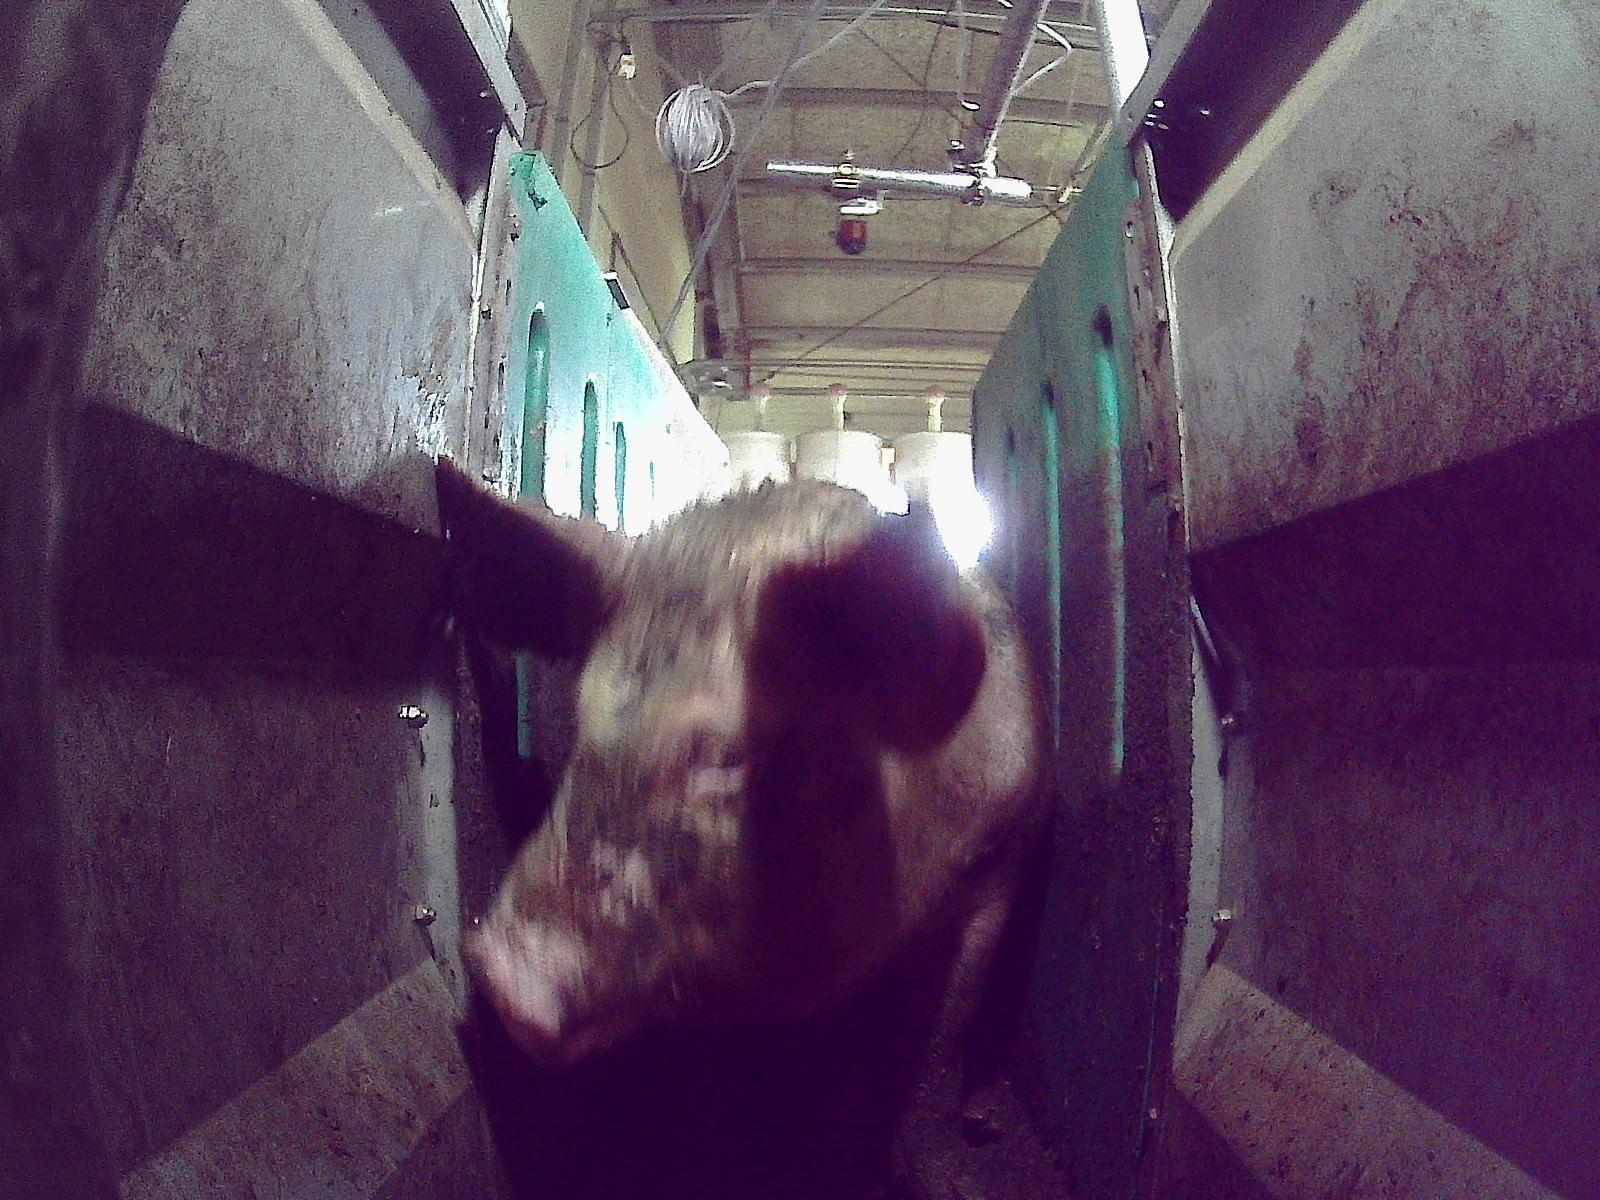Face: (457, 534, 906, 1076)
